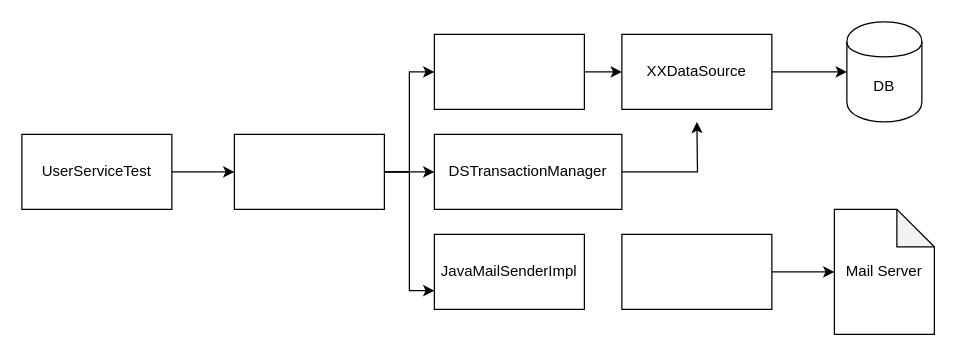
Image size: 956x356. Some labels were removed from this diagram. Here are the shapes that lost their labels. From the top down, the centre of each, then its label:
At point 508,71: "UserDaojdbc".
At point 308,171: "UserService".
At point 696,271: "JavaMail".
